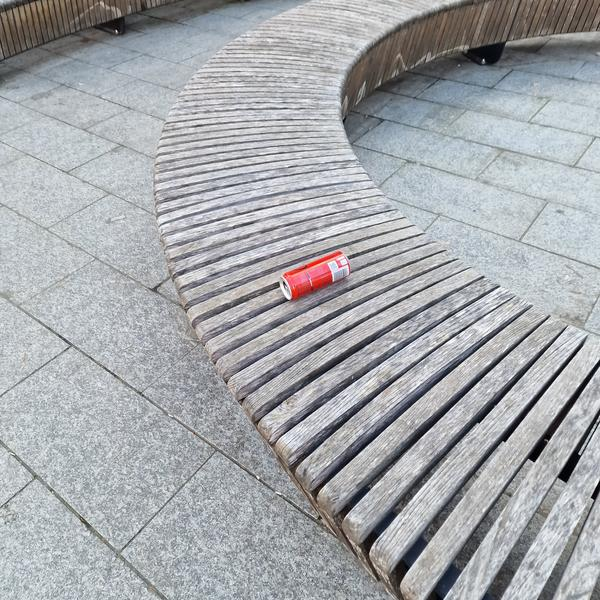can: (275, 246, 355, 305)
